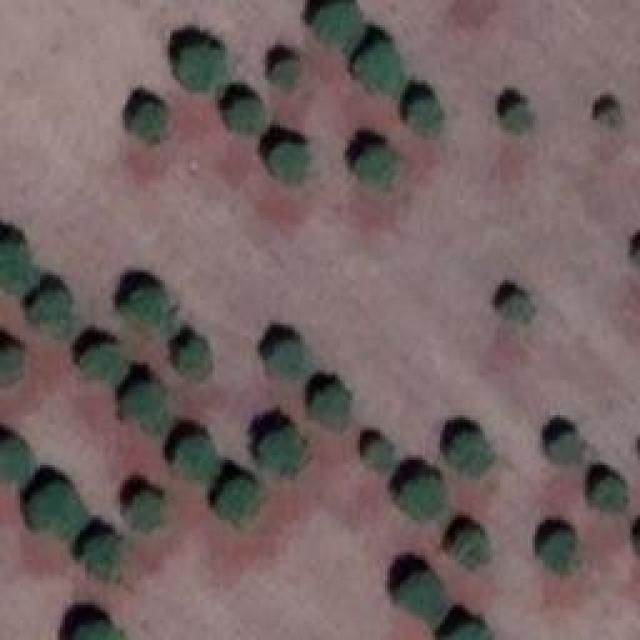Tree: (30, 483, 88, 538), (395, 573, 453, 628), (313, 0, 366, 48), (123, 287, 173, 335), (353, 45, 403, 93), (400, 475, 448, 520), (177, 45, 225, 90), (0, 243, 40, 296), (175, 437, 218, 485), (258, 430, 303, 475), (123, 383, 163, 433), (30, 293, 75, 336), (80, 345, 128, 385), (218, 478, 258, 523), (310, 388, 350, 431), (450, 433, 490, 476), (540, 533, 578, 578), (85, 532, 120, 580), (267, 145, 305, 188), (267, 340, 305, 378), (127, 105, 165, 143), (590, 475, 625, 515), (358, 148, 398, 183), (0, 439, 32, 482), (227, 100, 265, 135), (453, 530, 488, 568), (130, 492, 163, 530), (180, 340, 208, 380), (548, 433, 581, 463), (70, 625, 130, 640), (503, 103, 533, 133), (410, 100, 440, 130), (445, 622, 495, 640), (502, 292, 530, 320), (272, 60, 300, 88), (0, 347, 22, 380), (368, 442, 391, 470), (598, 108, 623, 123)
